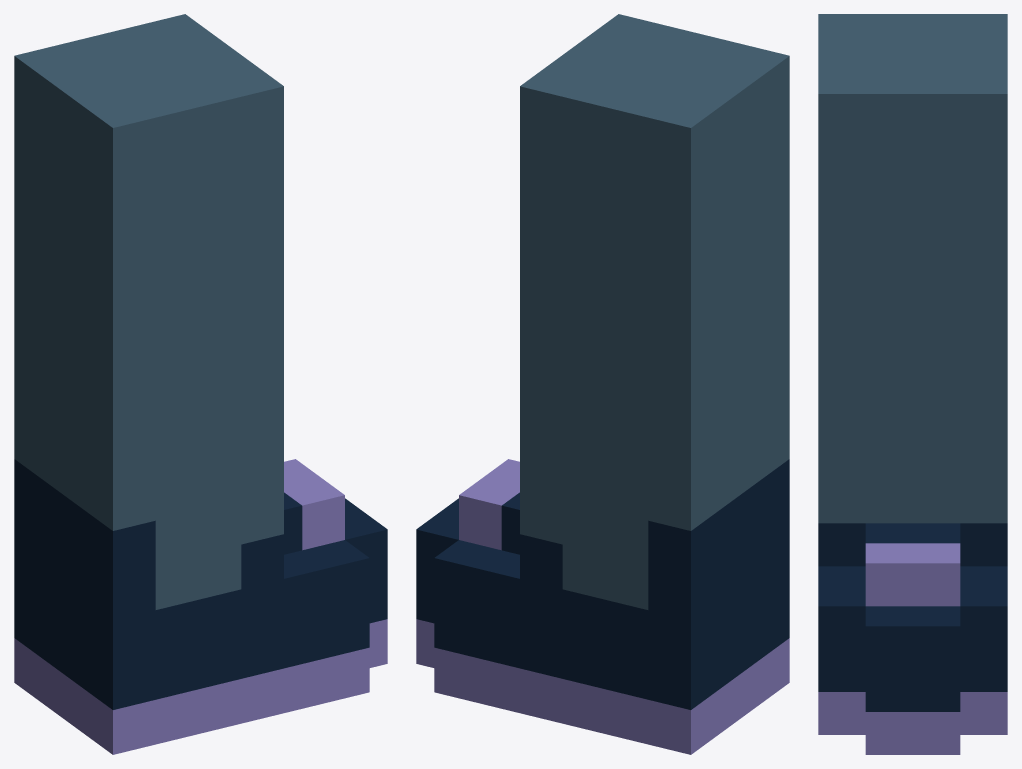
File: player-3.obj
The picture shows the model from 3 angles, left to right: view 1: azimuth 30°, elevation 25°; view 2: azimuth 150°, elevation 25°; view 3: azimuth 270°, elevation 25°; orthographic projection. The views are drawn at different scales.
Bounding box in the file's own units: 0.7 × 1.4 × 0.4.
1 material, 1 textured.
